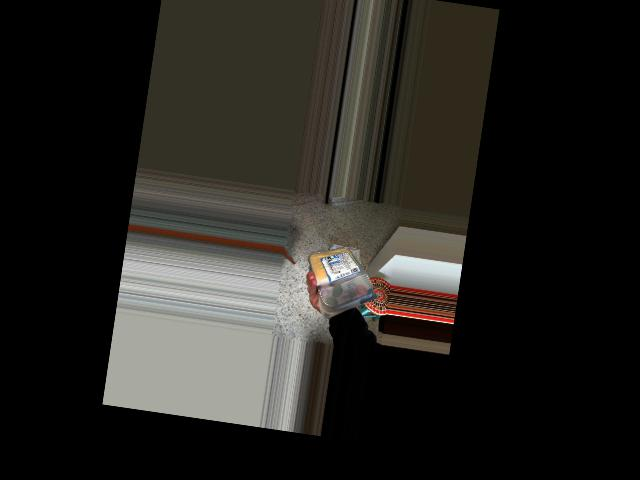cheese: (310, 237, 385, 320)
